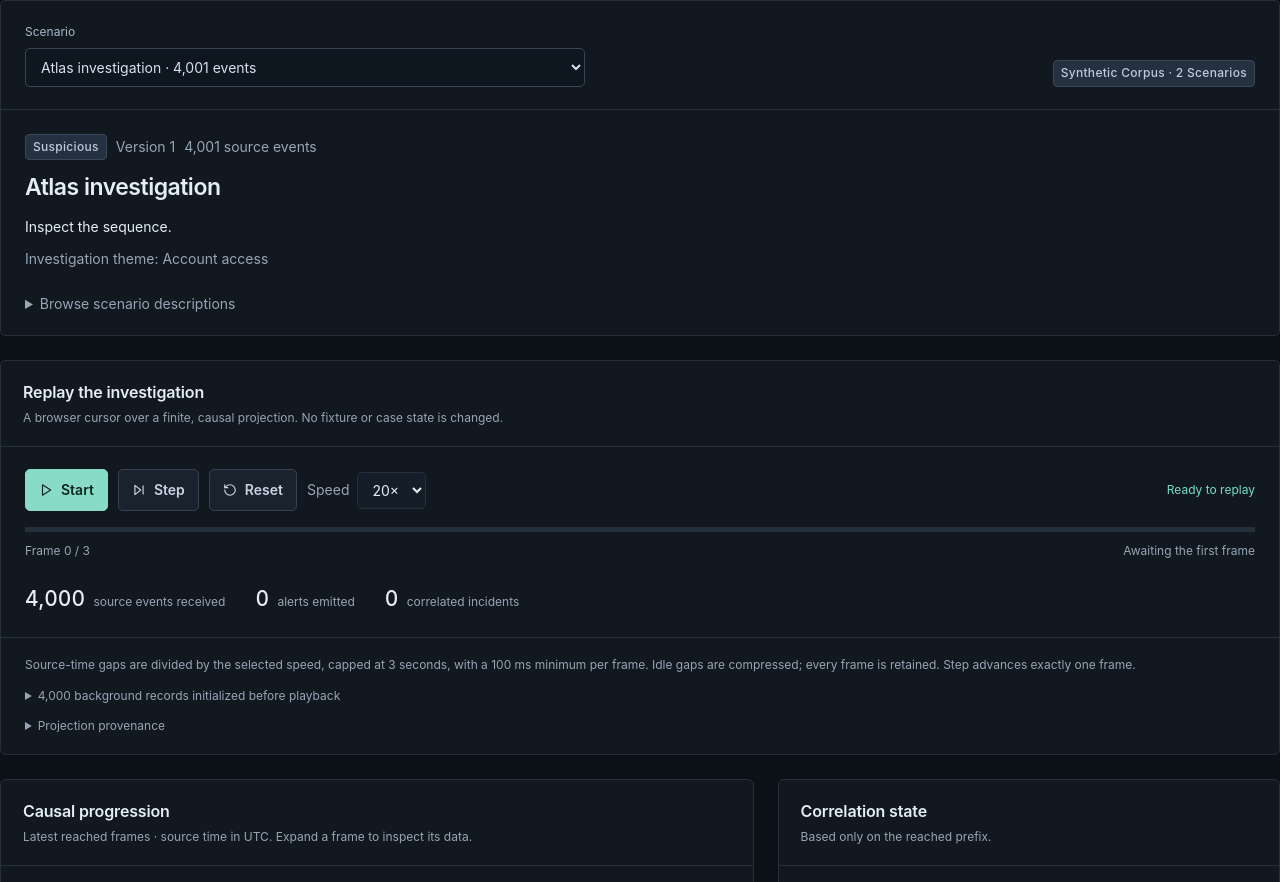
opens completed evidence read-only even in local mode
Check: the button "Start" is enabled, box top-left (25, 469), bottom-right (108, 511)
Click the button "Step".
click(158, 490)  # box top-left (118, 469), bottom-right (199, 511)
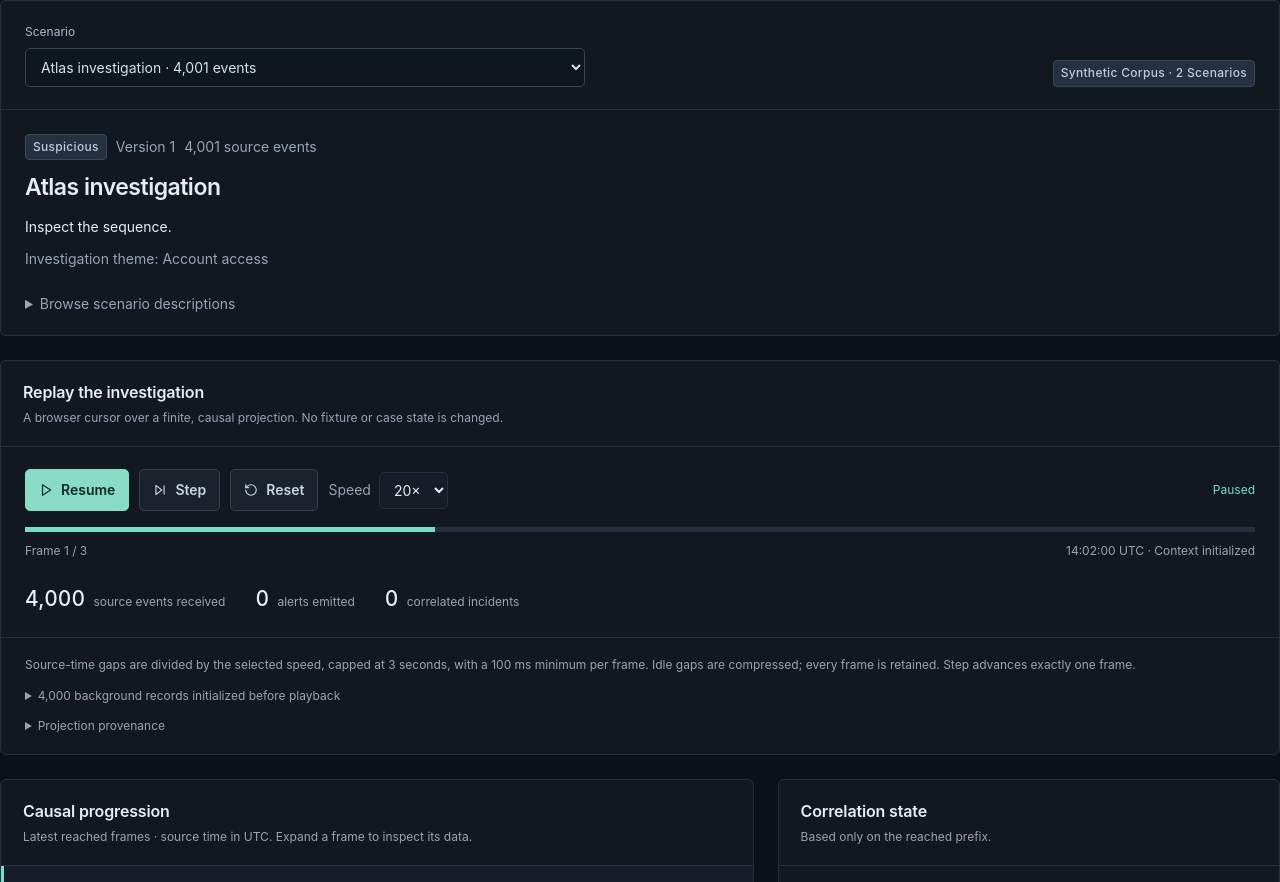
Click the button "Step".
click(180, 490)  # box top-left (139, 469), bottom-right (220, 511)
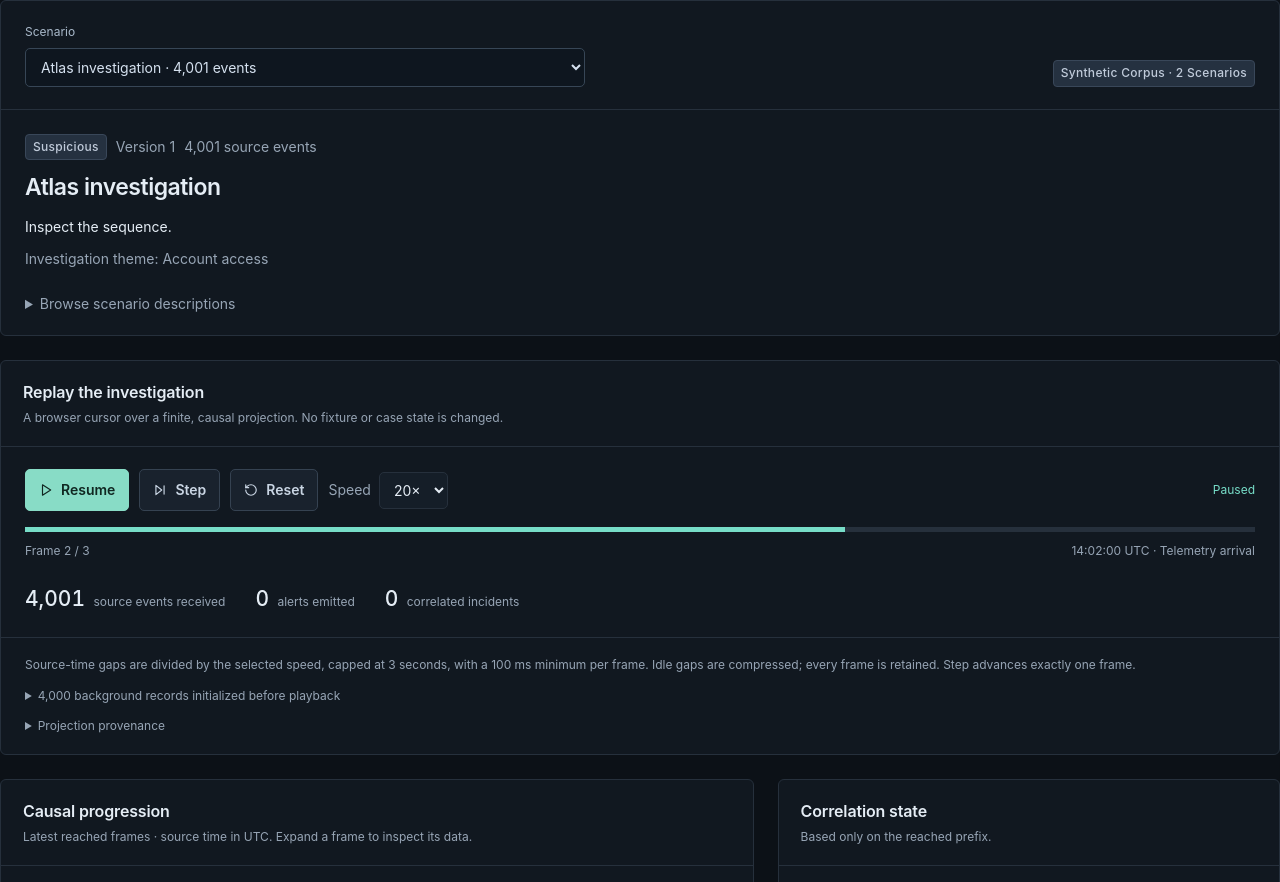
Click the button "Step".
click(180, 490)  # box top-left (139, 469), bottom-right (220, 511)
(page scrolled)
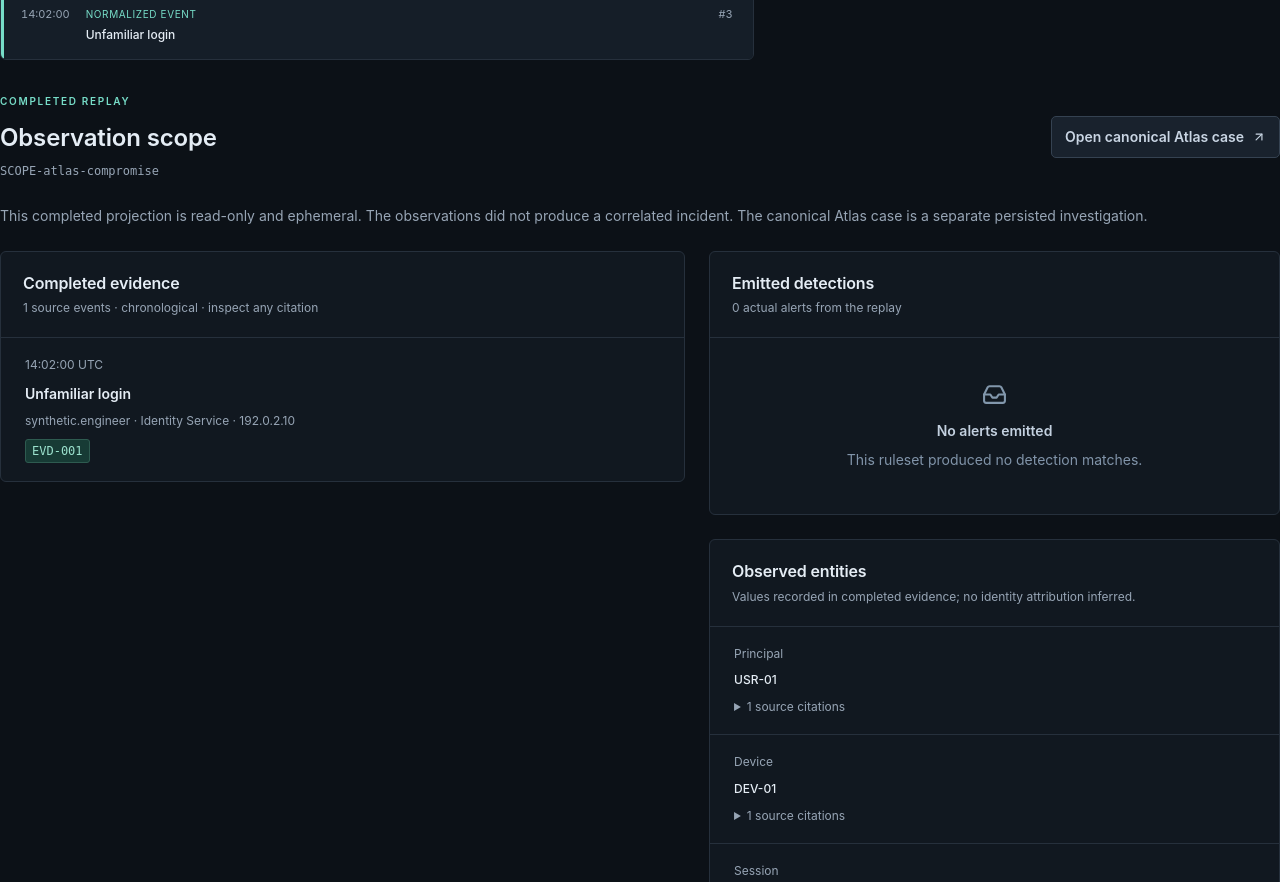
Click the button with aria-label "Inspect evidence EVD-001".
click(57, 451)  # box top-left (25, 439), bottom-right (90, 463)
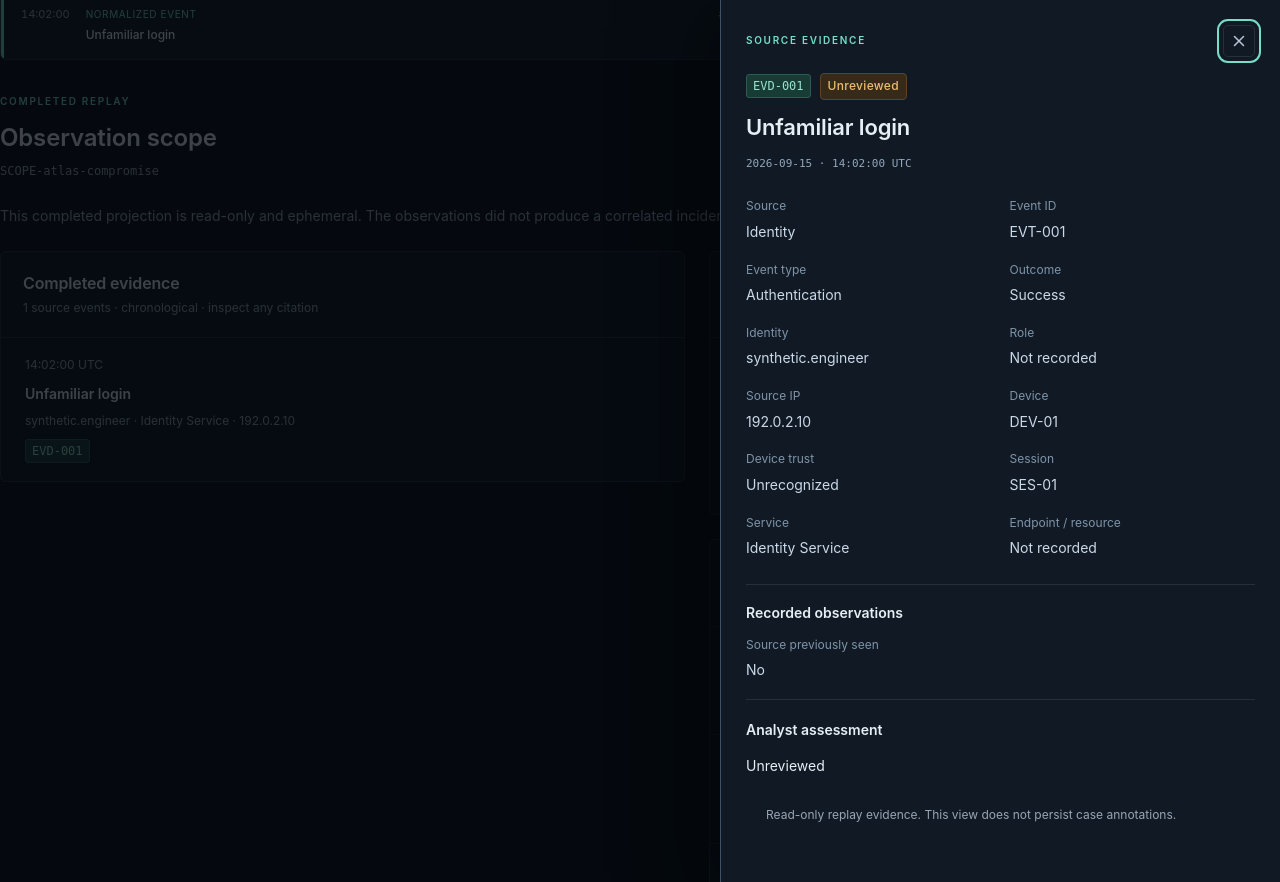
Check: the text "synthetic.engineer" is shown, box top-left (746, 350), bottom-right (869, 366)
